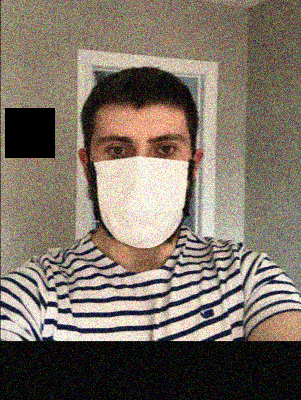with_mask: (90, 124, 190, 250)
